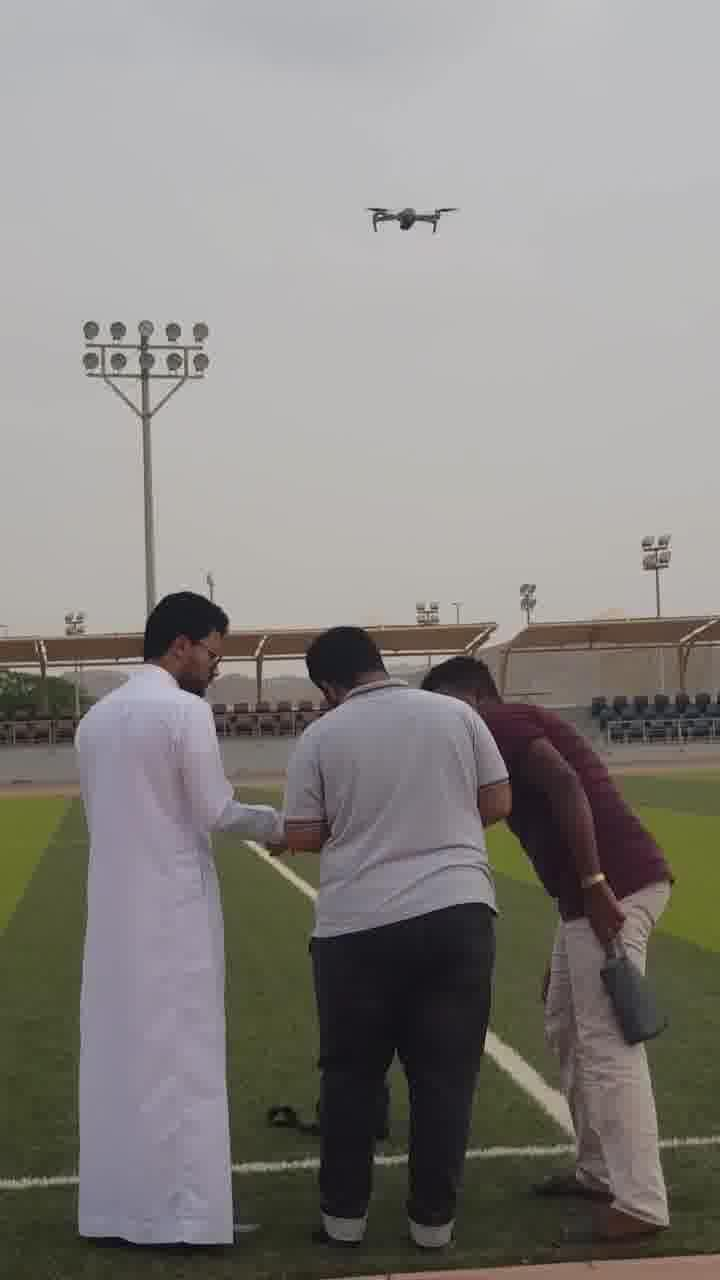drone: (359, 192, 463, 242)
